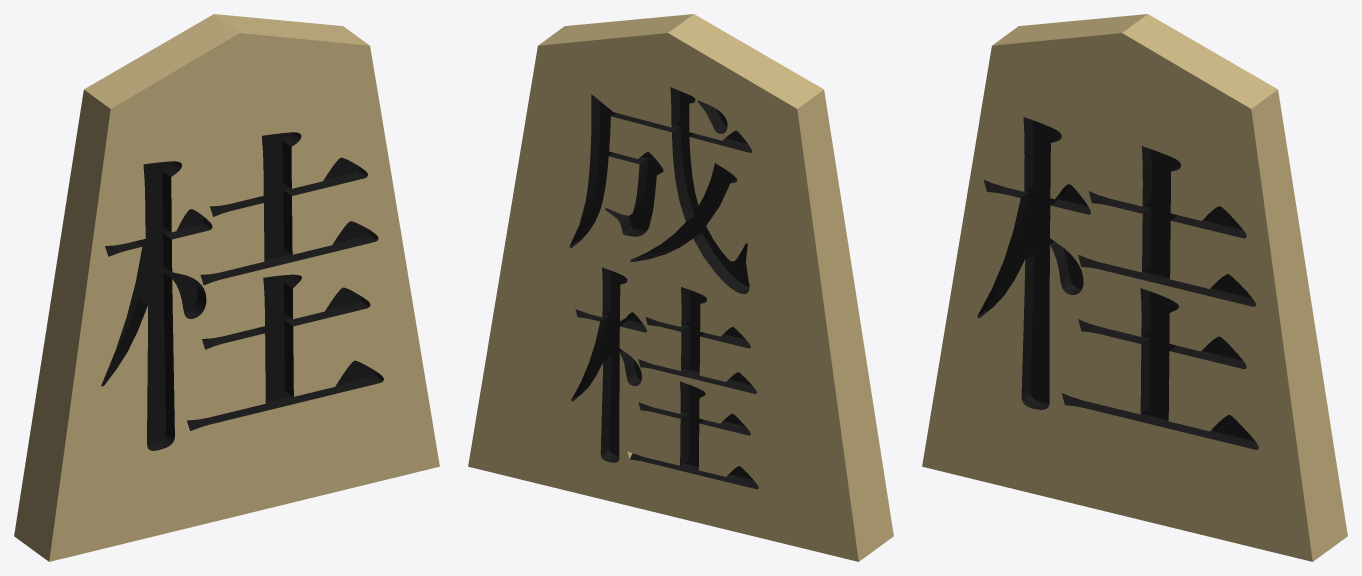
3 renders of one model, left to right at view 1: azimuth 30°, elevation 25°; view 2: azimuth 150°, elevation 25°; view 3: azimuth 330°, elevation 25°, orthographic.
Visible parts, largest first — view 1: keima; view 2: keima; view 3: keima.
Part boxes in pixels (box(x1,y1,x2,y2)): keima: box(14, 14, 439, 561); keima: box(468, 14, 893, 561); keima: box(922, 14, 1347, 561).
Bounding box in the file's own units: 0.0257 × 0.03 × 0.004.
